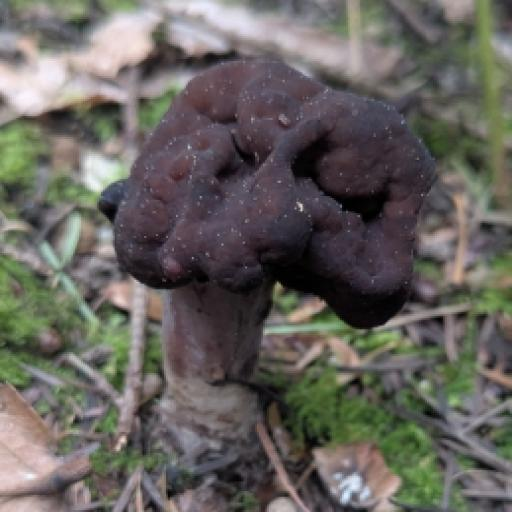mushroom: (110, 44, 428, 386)
